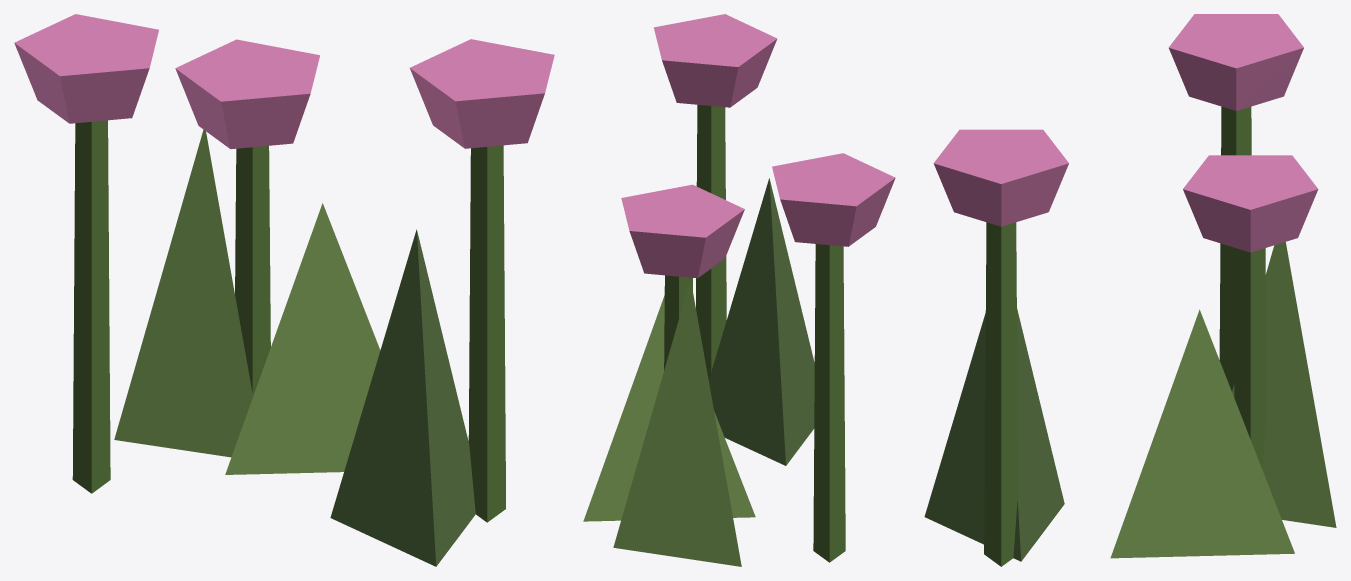
File: astragalus_1.obj
3 renders of one model, left to right at view 1: azimuth 30°, elevation 25°; view 2: azimuth 150°, elevation 25°; view 3: azimuth 270°, elevation 25°, orthographic. The views are drawn at different scales.
Visible parts, largest first — view 1: astragalus_1; view 2: astragalus_1; view 3: astragalus_1.
Boxes of the visible parts, <box> form: astragalus_1: <box>14,14,554,566</box>; astragalus_1: <box>583,14,895,566</box>; astragalus_1: <box>924,14,1336,566</box>.
Bounding box in the file's own units: 0.2882 × 0.313 × 0.289.
